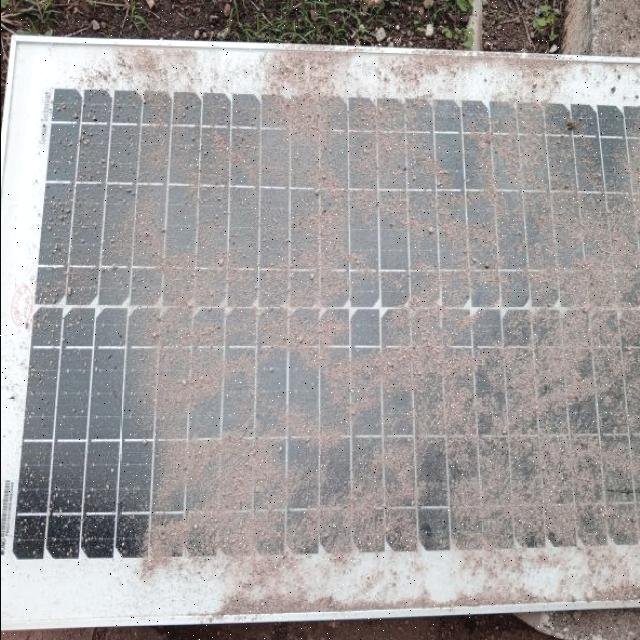Anomaly Solar Panel: (3, 92, 640, 587)
Surface Contaminant: (14, 74, 640, 572)
